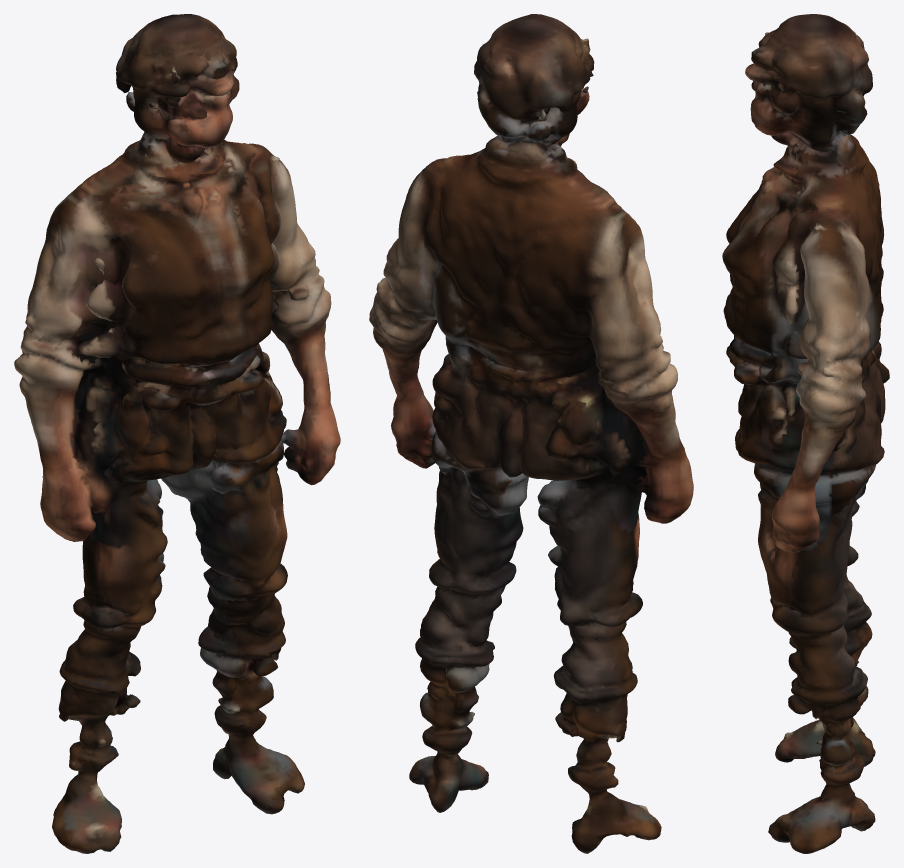
The model's file is koerper.glb.
The picture shows the model from 3 angles, left to right: view 1: azimuth 30°, elevation 25°; view 2: azimuth 150°, elevation 25°; view 3: azimuth 270°, elevation 25°; orthographic projection.
Parts seen in each view (by area): view 1: geometry_0; view 2: geometry_0; view 3: geometry_0.
Boxes of the visible parts, left/top/right/bottom form: geometry_0: left=14, top=14, right=340, bottom=853; geometry_0: left=369, top=14, right=693, bottom=853; geometry_0: left=722, top=14, right=889, bottom=853.
Size of the model in its own units: 0.7201 by 1.8 by 0.3479.
